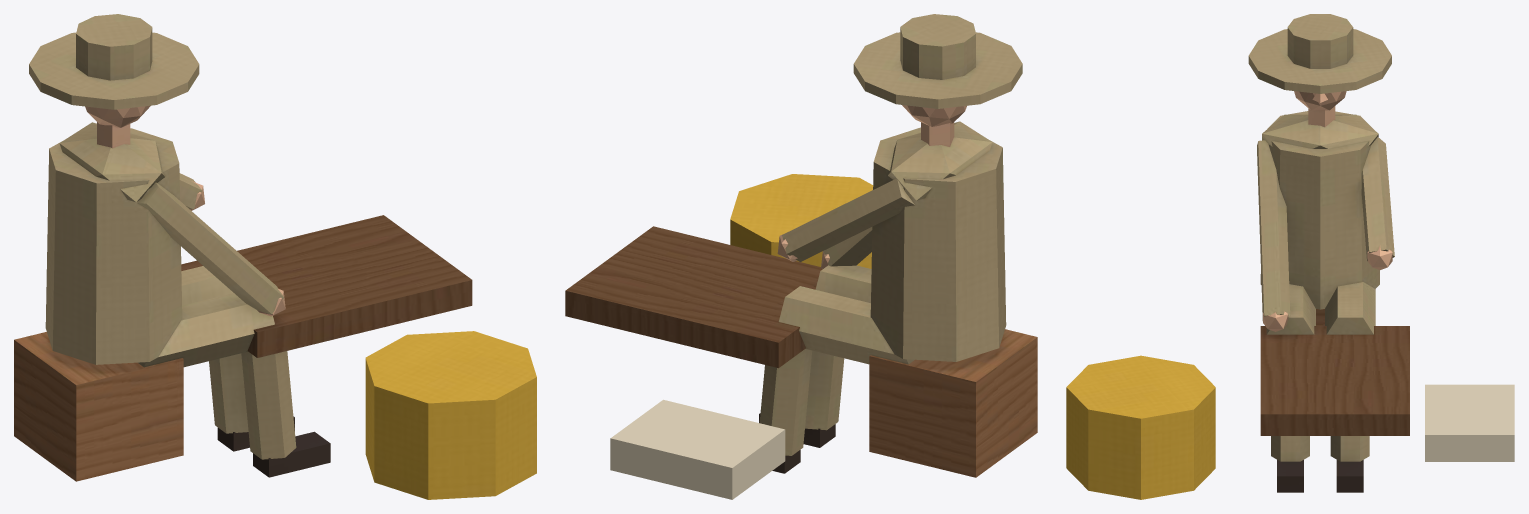
The model's file is arkeolog_1_tex.glb.
The picture shows the model from 3 angles, left to right: view 1: azimuth 30°, elevation 25°; view 2: azimuth 150°, elevation 25°; view 3: azimuth 270°, elevation 25°; orthographic projection. The views are drawn at different scales.
Parts seen in each view (by area): view 1: arkeolog_1; view 2: arkeolog_1; view 3: arkeolog_1.
Boxes of the visible parts, box(x1,y1,x2,y2) form: arkeolog_1: box(14, 14, 536, 499); arkeolog_1: box(565, 14, 1037, 499); arkeolog_1: box(1066, 14, 1514, 499).
Size of the model in its own units: 1.29 by 1.43 by 1.5.
Materials: 8 (6 with a texture image).
